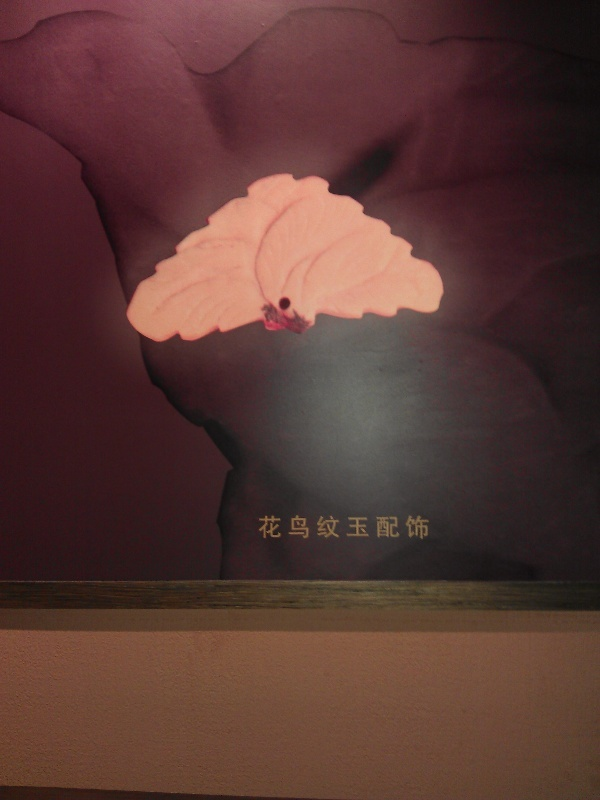text: (273, 514, 288, 540), (289, 514, 304, 540), (305, 514, 320, 540), (321, 514, 336, 540), (337, 514, 352, 540), (353, 514, 368, 540), (369, 514, 384, 540), (385, 514, 400, 540), (401, 514, 416, 540), (258, 514, 272, 540), (417, 514, 431, 540)
